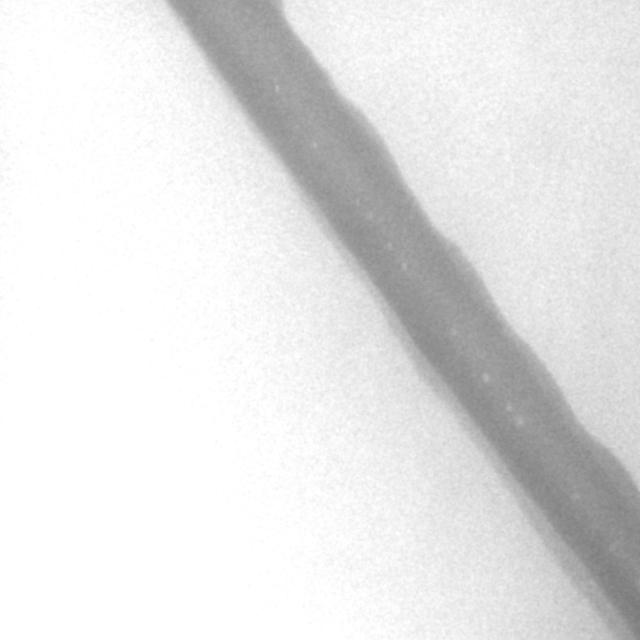air-hole: (515, 418, 524, 428), (571, 491, 580, 500), (400, 264, 408, 272), (451, 326, 457, 336), (387, 244, 394, 252), (610, 539, 614, 553), (484, 372, 490, 380), (507, 402, 513, 410), (356, 200, 361, 207), (313, 140, 317, 148), (276, 84, 280, 91), (368, 212, 373, 217), (297, 124, 302, 128)
